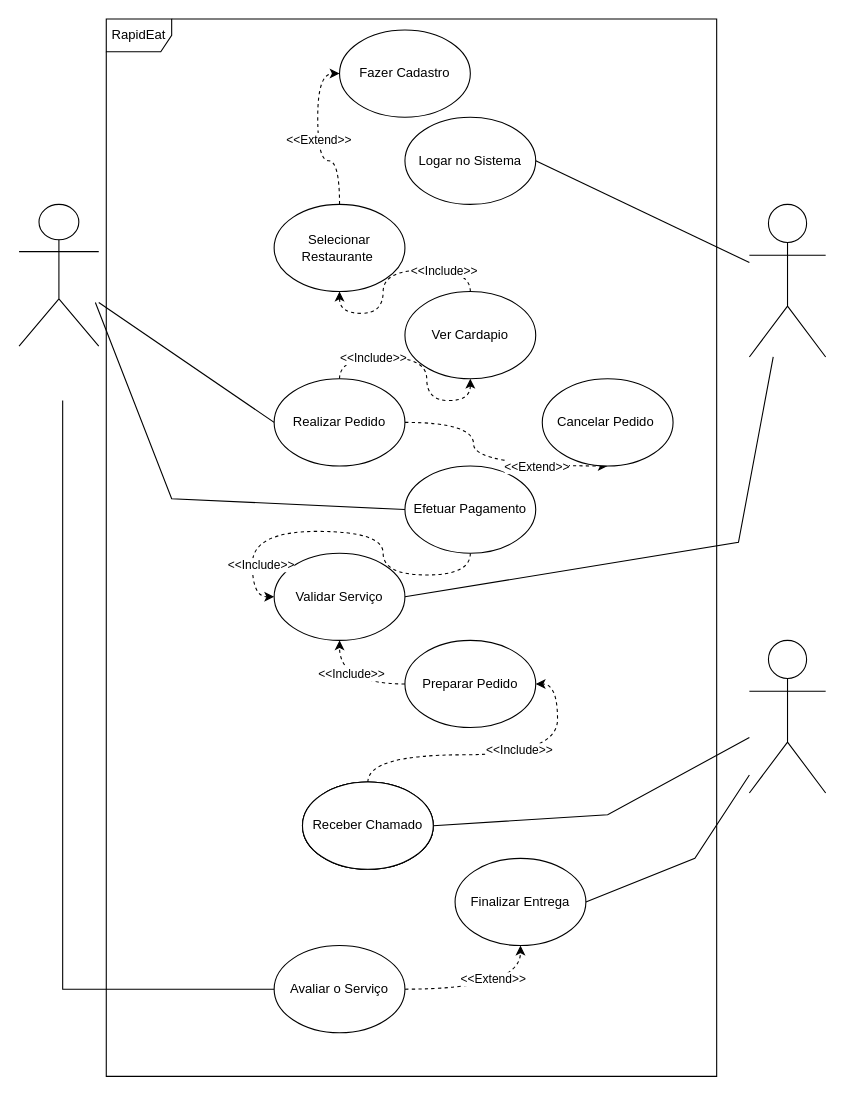
This 851x1095 diagram has some shape labels left out. Here are the shapes that lost their labels. From the top down, the centre of each, then its label:
point (58, 274): Cliente
point (787, 280): Restaurante
point (787, 716): Entregador
